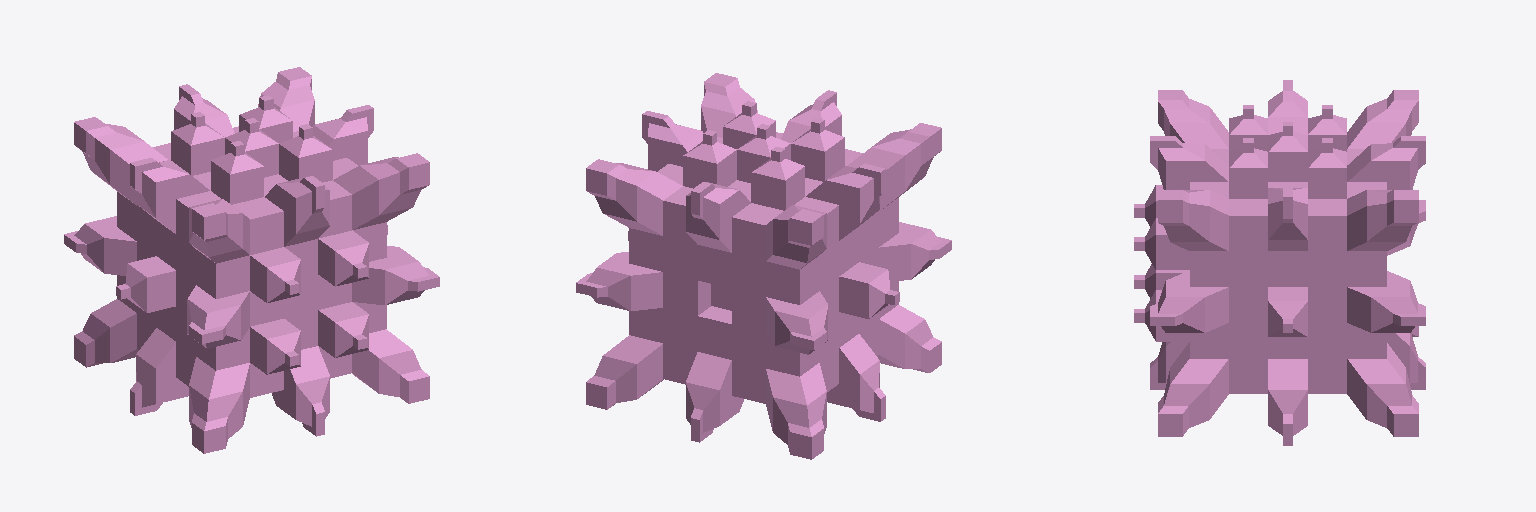
File: box_extruded.obj
3 renders of one model, left to right at view 1: azimuth 30°, elevation 25°; view 2: azimuth 150°, elevation 25°; view 3: azimuth 270°, elevation 25°, orthographic.
Visible parts, largest first — view 1: Box001; view 2: Box001; view 3: Box001.
Part boxes in pixels (x1,y1,x2,y2): Box001: (64, 67, 439, 453); Box001: (576, 73, 951, 459); Box001: (1134, 80, 1425, 445).
Size of the model in its own units: 78.12 by 74.01 by 74.01.